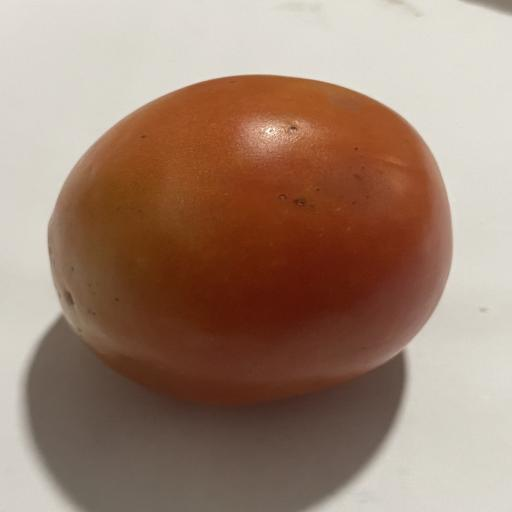ripe: (48, 75, 451, 404)
